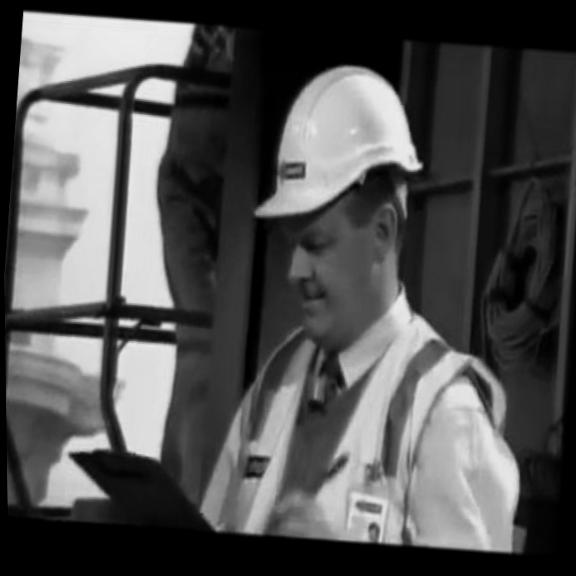safety_vest: (229, 291, 519, 557)
